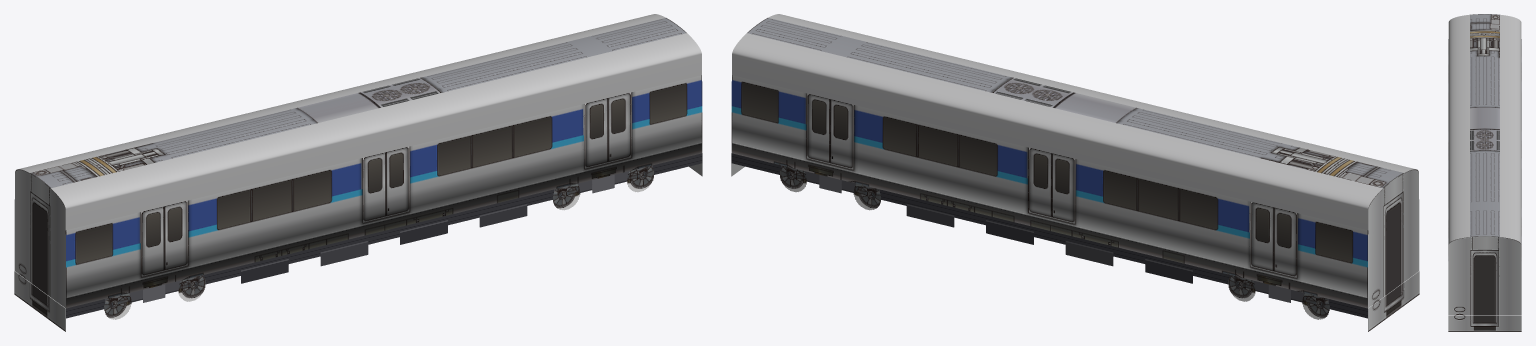
The model's file is car2.glb.
3 views of the same model, side by side, from view 1: azimuth 30°, elevation 25°; view 2: azimuth 150°, elevation 25°; view 3: azimuth 270°, elevation 25° (orthographic). The views are drawn at different scales.
Visible parts, largest first — view 1: aonami-1000-car2; view 2: aonami-1000-car2; view 3: aonami-1000-car2.
Boxes of the visible parts, x1,y1,x2,y2 form: aonami-1000-car2: (14, 14, 702, 331); aonami-1000-car2: (731, 14, 1419, 331); aonami-1000-car2: (1448, 14, 1521, 331).
Size of the model in its own units: 20.03 by 4.01 by 2.8.
6 materials, 5 textured.
